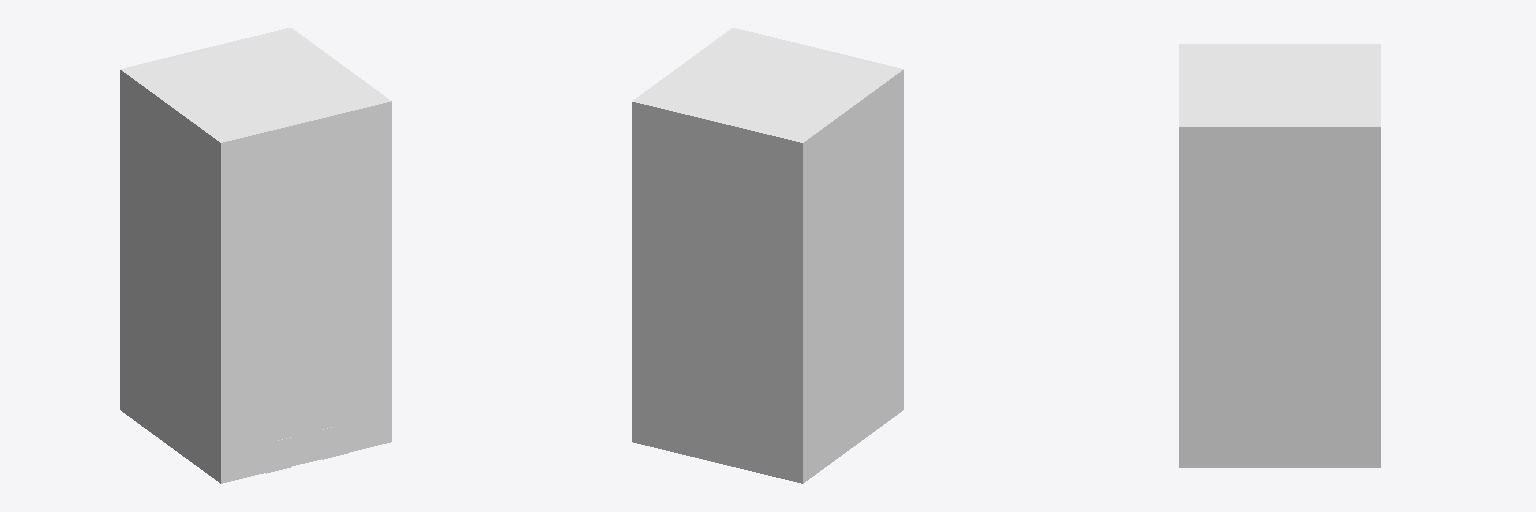
File: city3_h9_LOD.obj
3 views of the same model, side by side, from view 1: azimuth 30°, elevation 25°; view 2: azimuth 150°, elevation 25°; view 3: azimuth 270°, elevation 25° (orthographic).
Visible parts, largest first — view 1: city6; view 2: city6; view 3: city6.
Part boxes in pixels (x1,y1,x2,y2): city6: (120,28,391,483); city6: (632,28,903,483); city6: (1179,44,1380,467).
Size of the model in its own units: 7.42 by 14.15 by 7.6.